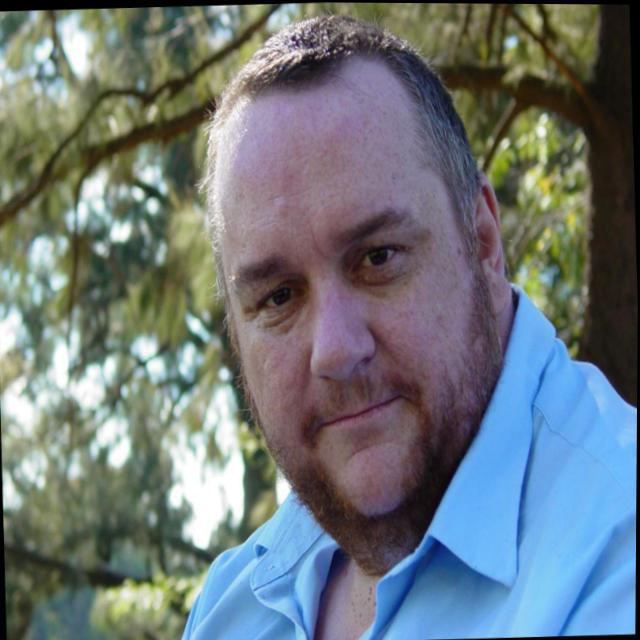puffy_eyes: (351, 252, 409, 296), (256, 294, 308, 333)
